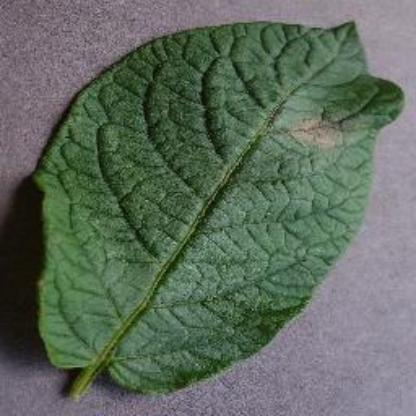Late-Blight: (19, 17, 389, 401)
